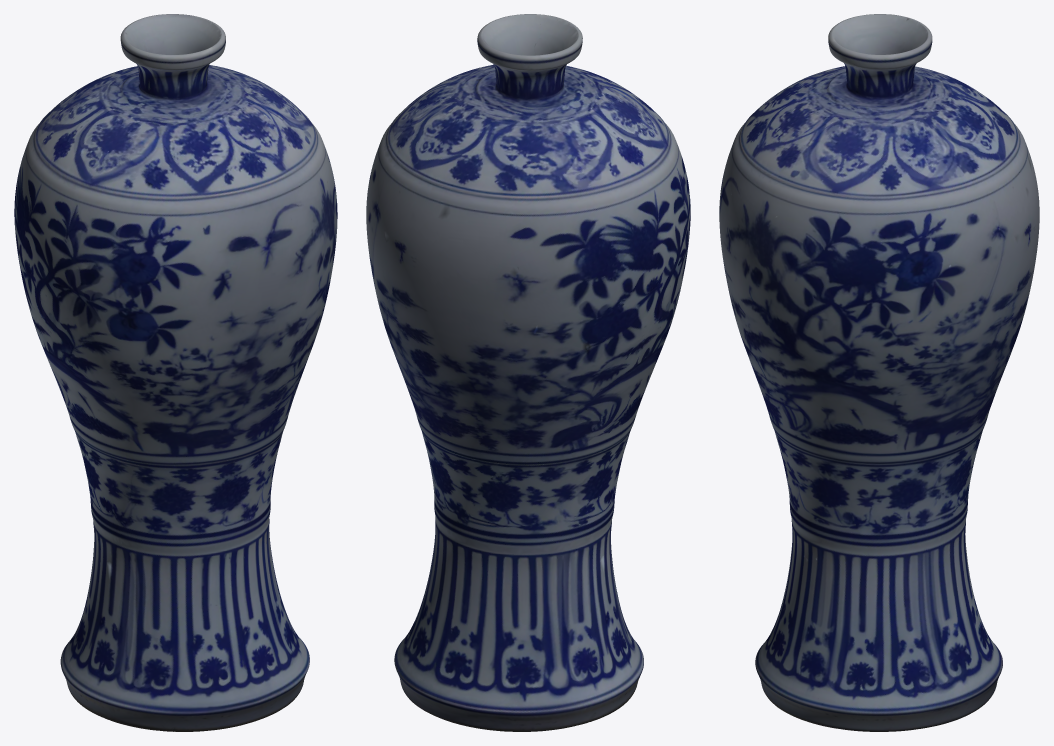
The model's file is meiping.glb.
3 views of the same model, side by side, from view 1: azimuth 30°, elevation 25°; view 2: azimuth 150°, elevation 25°; view 3: azimuth 270°, elevation 25° (orthographic).
Parts seen in each view (by area): view 1: node_0; view 2: node_0; view 3: node_0.
Part boxes in pixels (box(x1,y1,x2,y2)): node_0: box(14, 14, 337, 731); node_0: box(366, 14, 690, 731); node_0: box(719, 14, 1039, 731).
Size of the model in its own units: 0.513 by 1.15 by 0.514.
1 material, 1 textured.
